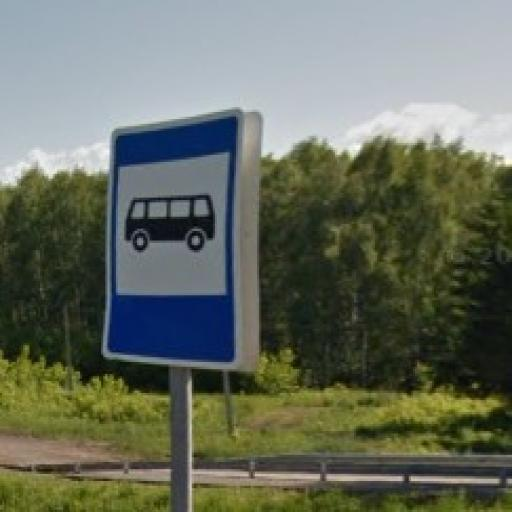traffic_sign: (102, 108, 246, 373)
